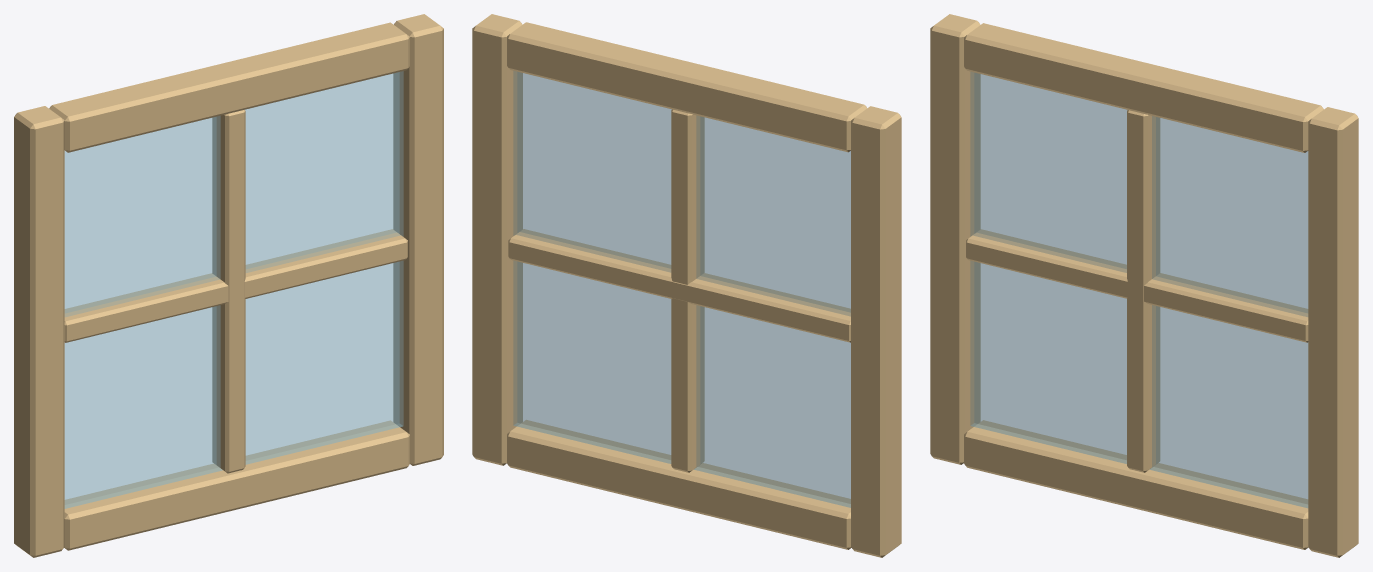
File: bld_window_a.glb
The picture shows the model from 3 angles, left to right: view 1: azimuth 30°, elevation 25°; view 2: azimuth 150°, elevation 25°; view 3: azimuth 330°, elevation 25°; orthographic projection.
Parts seen in each view (by area): view 1: bld_window_a; view 2: bld_window_a; view 3: bld_window_a.
Part boxes in pixels (x1,y1,x2,y2): bld_window_a: (14, 14, 443, 557); bld_window_a: (472, 14, 901, 557); bld_window_a: (930, 14, 1358, 557).
Size of the model in its own units: 1.2 by 1.2 by 0.1025.
